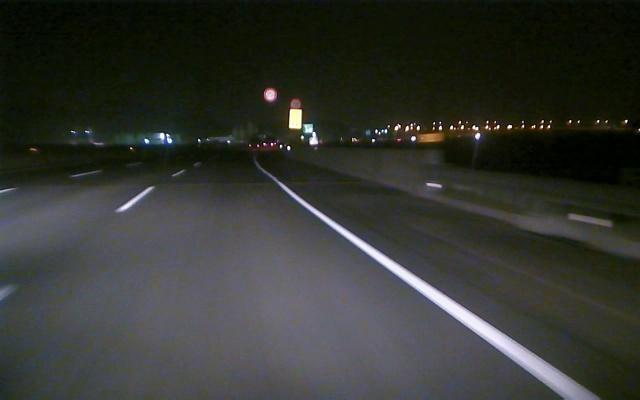lane: (270, 176, 597, 396), (1, 186, 157, 299)
